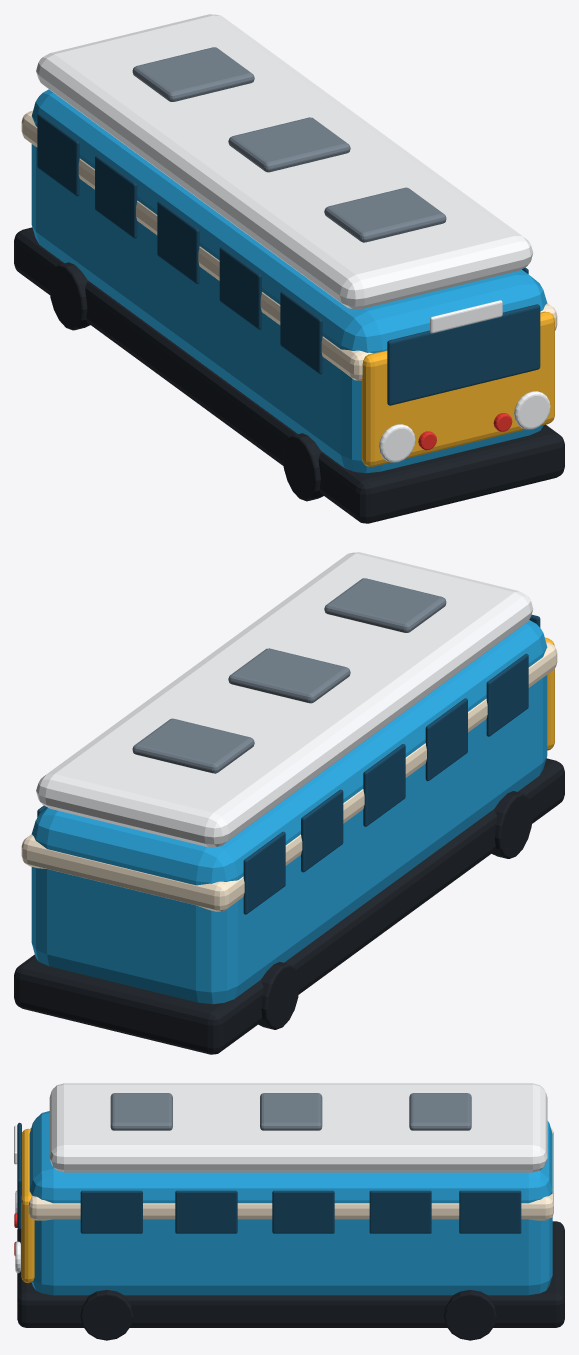
The model's file is Premium_03_Trains.fbx.
3 views of the same model, one above another, from view 1: azimuth 30°, elevation 25°; view 2: azimuth 150°, elevation 25°; view 3: azimuth 270°, elevation 25° (orthographic). The views are drawn at different scales.
Parts seen in each view (by area): view 1: Premium_Train_BlueGold_Roof, Premium_Train_BlueGold_Body, Premium_Train_BlueGold_Underbody, Premium_Train_BlueGold_YellowNose, Premium_Train_BlueGold_FrontGlass, Premium_Train_BlueGold_RoofVent, Premium_Train_BlueGold_RoofVent.001, Premium_Train_BlueGold_RoofVent.002, Premium_Train_BlueGold_CreamBelt, Premium_Train_BlueGold_SideWindow.004, Premium_Train_BlueGold_SideWindow, Premium_Train_BlueGold_SideWindow.001 (+7 smaller); view 2: Premium_Train_BlueGold_Body, Premium_Train_BlueGold_Roof, Premium_Train_BlueGold_Underbody, Premium_Train_BlueGold_CreamBelt, Premium_Train_BlueGold_RoofVent.002, Premium_Train_BlueGold_RoofVent.001, Premium_Train_BlueGold_RoofVent, Premium_Train_BlueGold_SideWindow.003, Premium_Train_BlueGold_SideWindow.004, Premium_Train_BlueGold_SideWindow.002, Premium_Train_BlueGold_SideWindow, Premium_Train_BlueGold_SideWindow.001 (+3 smaller); view 3: Premium_Train_BlueGold_Body, Premium_Train_BlueGold_Roof, Premium_Train_BlueGold_Underbody, Premium_Train_BlueGold_CreamBelt, Premium_Train_BlueGold_SideWindow.006, Premium_Train_BlueGold_SideWindow.007, Premium_Train_BlueGold_SideWindow.008, Premium_Train_BlueGold_SideWindow.009, Premium_Train_BlueGold_SideWindow.005, Premium_Train_BlueGold_RoofVent.002, Premium_Train_BlueGold_RoofVent, Premium_Train_BlueGold_RoofVent.001 (+4 smaller).
Boxes of the visible parts, x1=… form: Premium_Train_BlueGold_Roof: x1=36, y1=14, x2=533, y2=309; Premium_Train_BlueGold_Body: x1=31, y1=89, x2=547, y2=473; Premium_Train_BlueGold_Underbody: x1=14, y1=227, x2=564, y2=523; Premium_Train_BlueGold_YellowNose: x1=361, y1=311, x2=554, y2=466; Premium_Train_BlueGold_FrontGlass: x1=387, y1=304, x2=540, y2=405; Premium_Train_BlueGold_RoofVent: x1=324, y1=187, x2=446, y2=242; Premium_Train_BlueGold_RoofVent.001: x1=228, y1=117, x2=350, y2=172; Premium_Train_BlueGold_RoofVent.002: x1=132, y1=47, x2=254, y2=101; Premium_Train_BlueGold_CreamBelt: x1=21, y1=110, x2=557, y2=380; Premium_Train_BlueGold_SideWindow.004: x1=37, y1=113, x2=79, y2=196; Premium_Train_BlueGold_SideWindow: x1=280, y1=291, x2=322, y2=374; Premium_Train_BlueGold_SideWindow.001: x1=219, y1=247, x2=261, y2=329; Premium_Train_BlueGold_Body: x1=31, y1=620, x2=547, y2=1004; Premium_Train_BlueGold_Roof: x1=36, y1=552, x2=533, y2=847; Premium_Train_BlueGold_Underbody: x1=14, y1=758, x2=564, y2=1054; Premium_Train_BlueGold_CreamBelt: x1=21, y1=641, x2=557, y2=911; Premium_Train_BlueGold_RoofVent.002: x1=132, y1=718, x2=254, y2=773; Premium_Train_BlueGold_RoofVent.001: x1=228, y1=648, x2=350, y2=703; Premium_Train_BlueGold_RoofVent: x1=324, y1=578, x2=446, y2=632; Premium_Train_BlueGold_SideWindow.003: x1=301, y1=789, x2=343, y2=872; Premium_Train_BlueGold_SideWindow.004: x1=243, y1=831, x2=285, y2=914; Premium_Train_BlueGold_SideWindow.002: x1=363, y1=744, x2=405, y2=826; Premium_Train_BlueGold_SideWindow: x1=486, y1=653, x2=528, y2=736; Premium_Train_BlueGold_SideWindow.001: x1=425, y1=698, x2=467, y2=781; Premium_Train_BlueGold_Body: x1=29, y1=1111, x2=552, y2=1295; Premium_Train_BlueGold_Roof: x1=49, y1=1083, x2=547, y2=1172; Premium_Train_BlueGold_Underbody: x1=17, y1=1221, x2=564, y2=1327; Premium_Train_BlueGold_CreamBelt: x1=28, y1=1128, x2=553, y2=1220; Premium_Train_BlueGold_SideWindow.006: x1=175, y1=1190, x2=237, y2=1233; Premium_Train_BlueGold_SideWindow.007: x1=272, y1=1190, x2=334, y2=1233; Premium_Train_BlueGold_SideWindow.008: x1=369, y1=1190, x2=431, y2=1233; Premium_Train_BlueGold_SideWindow.009: x1=459, y1=1190, x2=521, y2=1233; Premium_Train_BlueGold_SideWindow.005: x1=80, y1=1190, x2=142, y2=1233; Premium_Train_BlueGold_RoofVent.002: x1=409, y1=1093, x2=471, y2=1130; Premium_Train_BlueGold_RoofVent: x1=110, y1=1093, x2=172, y2=1130; Premium_Train_BlueGold_RoofVent.001: x1=260, y1=1093, x2=322, y2=1130.
Size of the model in its own units: 3.94 by 4.25 by 11.06.
